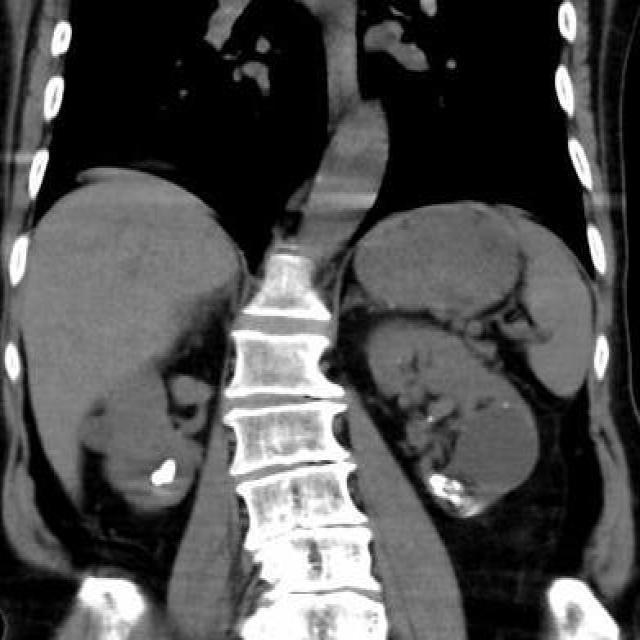Tas_Var: (142, 449, 178, 499), (427, 472, 449, 488), (432, 485, 449, 499), (448, 491, 462, 507), (423, 415, 441, 425), (452, 478, 462, 492), (502, 399, 512, 409)
